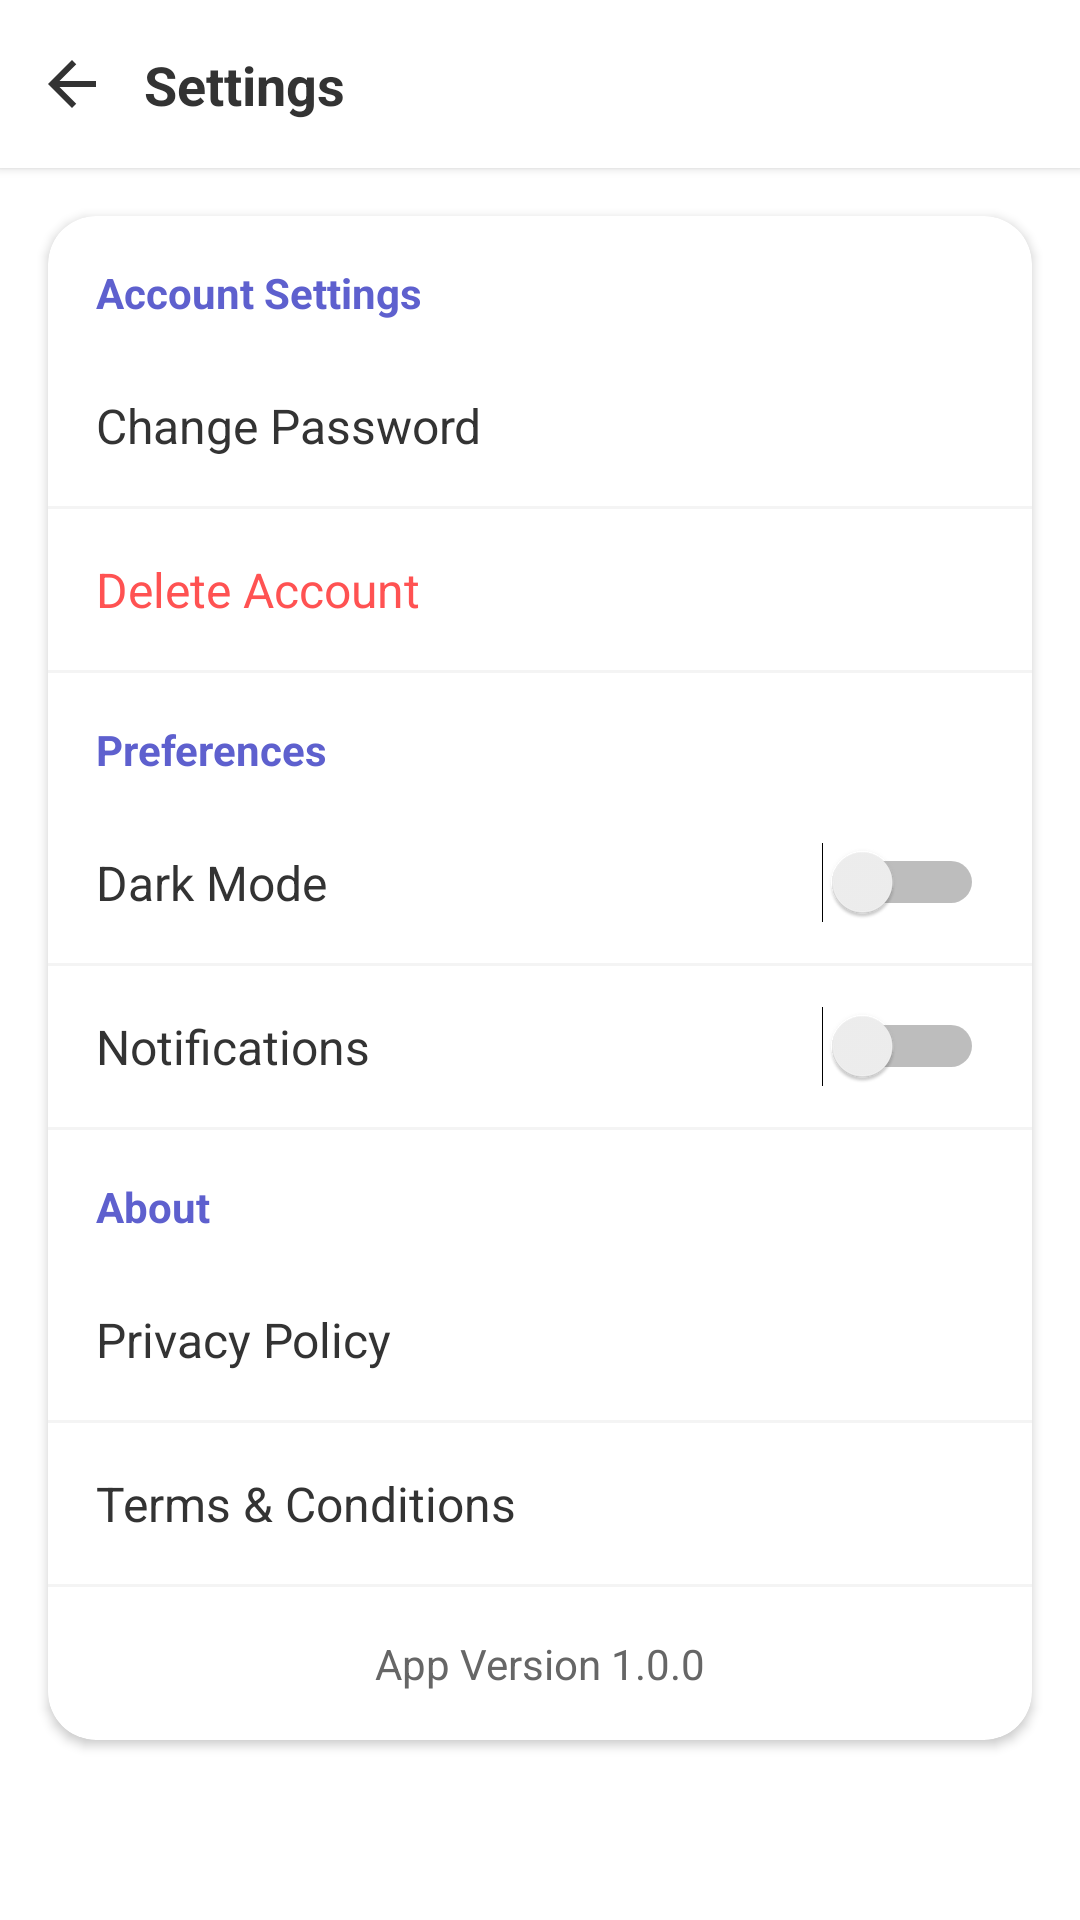

Icon bounding boxes for this 1080 × 1920 phone screenshot, format bbox(x1, y1, x2, y2):
Back: bbox(48, 60, 96, 108)
